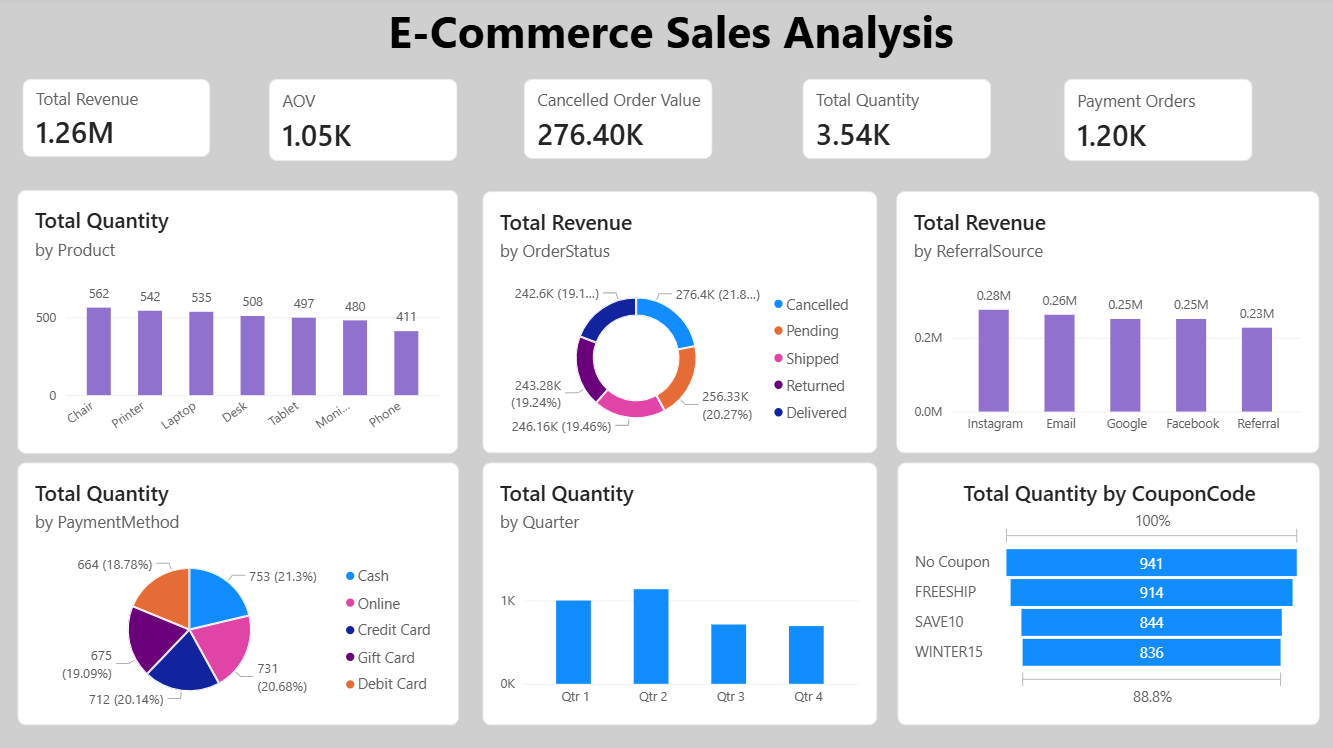

The dashboard page shown, as its layout file describes it:
{"tool":"powerbi","page":{"name":"Page 1","canvas":[1280,720],"ordinal":0},"visuals":[{"type":"cardVisual","fields":{"Data":["Data_analysisDSCODE.Total Revenue"]},"box":[21.6,75,180.3,75],"z":0},{"type":"cardVisual","fields":{"Data":["Data_analysisDSCODE.AOV"]},"box":[258.3,75,181.8,79.4],"z":1},{"type":"cardVisual","fields":{"Data":["Data_analysisDSCODE.Cancelled Order Value"]},"box":[502.1,75,181.8,77.9],"z":2},{"type":"cardVisual","fields":{"Data":["Data_analysisDSCODE.Total Quantity"]},"box":[769,75,181.8,77.9],"z":3},{"type":"cardVisual","fields":{"Data":["Data_analysisDSCODE.Payment Orders"]},"box":[1020,75,181.8,79.4],"z":4},{"type":"textbox","box":[21.6,0,1243.7,63.5],"z":5},{"type":"columnChart","fields":{"Category":["Data_analysisDSCODE.Product"],"Y":["Data_analysisDSCODE.Total Quantity"]},"box":[17.3,181.8,422.7,252.5],"z":6},{"type":"donutChart","fields":{"Category":["Data_analysisDSCODE.OrderStatus"],"Y":["Data_analysisDSCODE.Total Revenue"]},"box":[463.1,183.2,378,251],"z":7},{"type":"clusteredColumnChart","fields":{"Category":["Data_analysisDSCODE.ReferralSource"],"Y":["Data_analysisDSCODE.Total Revenue"]},"box":[859.9,183.2,405.4,251],"z":8},{"type":"pieChart","fields":{"Category":["Data_analysisDSCODE.PaymentMethod"],"Y":["Data_analysisDSCODE.Total Quantity"]},"box":[17,444,423,252],"z":9},{"type":"lineStackedColumnComboChart","fields":{"Category":["Data_analysisDSCODE.Date.Variation.Date Hierarchy.Quarter"],"Y":["Data_analysisDSCODE.Total Quantity"]},"box":[463,444,378,252],"z":10},{"type":"funnel","fields":{"Category":["Data_analysisDSCODE.CouponCode"],"Y":["Data_analysisDSCODE.Total Quantity"]},"box":[860,444,405,252],"z":11}]}

Visuals, with their boxes in screenshot pixels (x1, y1, x2, y2), scaled from the page's 1280x720 canvas onto the 1333x748 screenshot:
cardVisual - Data_analysisDSCODE.Total Revenue: rect(22, 78, 210, 156)
cardVisual - Data_analysisDSCODE.AOV: rect(269, 78, 458, 160)
cardVisual - Data_analysisDSCODE.Cancelled Order Value: rect(523, 78, 712, 159)
cardVisual - Data_analysisDSCODE.Total Quantity: rect(801, 78, 990, 159)
cardVisual - Data_analysisDSCODE.Payment Orders: rect(1062, 78, 1252, 160)
textbox: rect(22, 0, 1318, 66)
columnChart - Data_analysisDSCODE.Product x Data_analysisDSCODE.Total Quantity: rect(18, 189, 458, 451)
donutChart - Data_analysisDSCODE.OrderStatus x Data_analysisDSCODE.Total Revenue: rect(482, 190, 876, 451)
clusteredColumnChart - Data_analysisDSCODE.ReferralSource x Data_analysisDSCODE.Total Revenue: rect(896, 190, 1318, 451)
pieChart - Data_analysisDSCODE.PaymentMethod x Data_analysisDSCODE.Total Quantity: rect(18, 461, 458, 723)
lineStackedColumnComboChart - Data_analysisDSCODE.Date.Variation.Date Hierarchy.Quarter x Data_analysisDSCODE.Total Quantity: rect(482, 461, 876, 723)
funnel - Data_analysisDSCODE.CouponCode x Data_analysisDSCODE.Total Quantity: rect(896, 461, 1317, 723)
